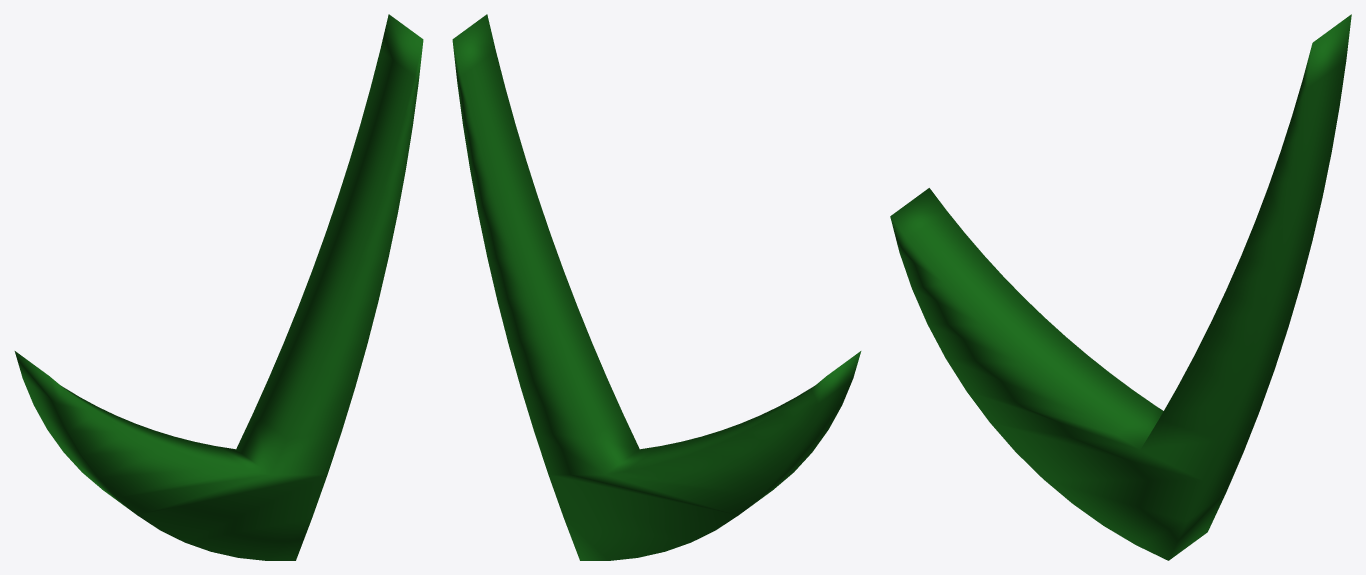
The model's file is check.dae.
3 views of the same model, side by side, from view 1: azimuth 30°, elevation 25°; view 2: azimuth 150°, elevation 25°; view 3: azimuth 330°, elevation 25° (orthographic). The views are drawn at different scales.
Visible parts, largest first — view 1: SketchUp; view 2: SketchUp; view 3: SketchUp.
Boxes of the visible parts, left/top/right/bottom form: SketchUp: left=14, top=14, right=423, bottom=560; SketchUp: left=452, top=14, right=861, bottom=560; SketchUp: left=890, top=14, right=1351, bottom=560.
Bounding box in the file's own units: 257 × 41.3 × 321.
